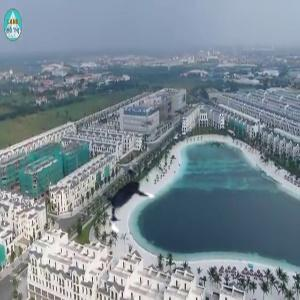drone: (87, 156, 171, 240)
